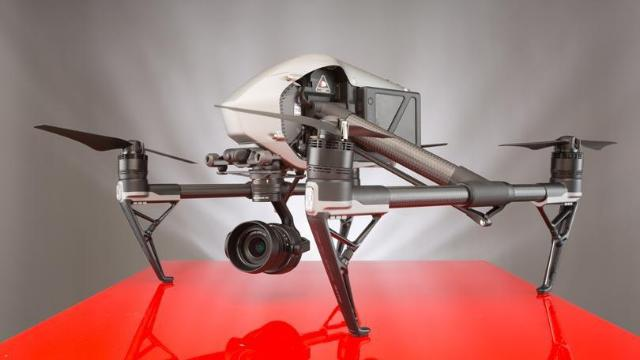drone: (31, 46, 626, 360)
